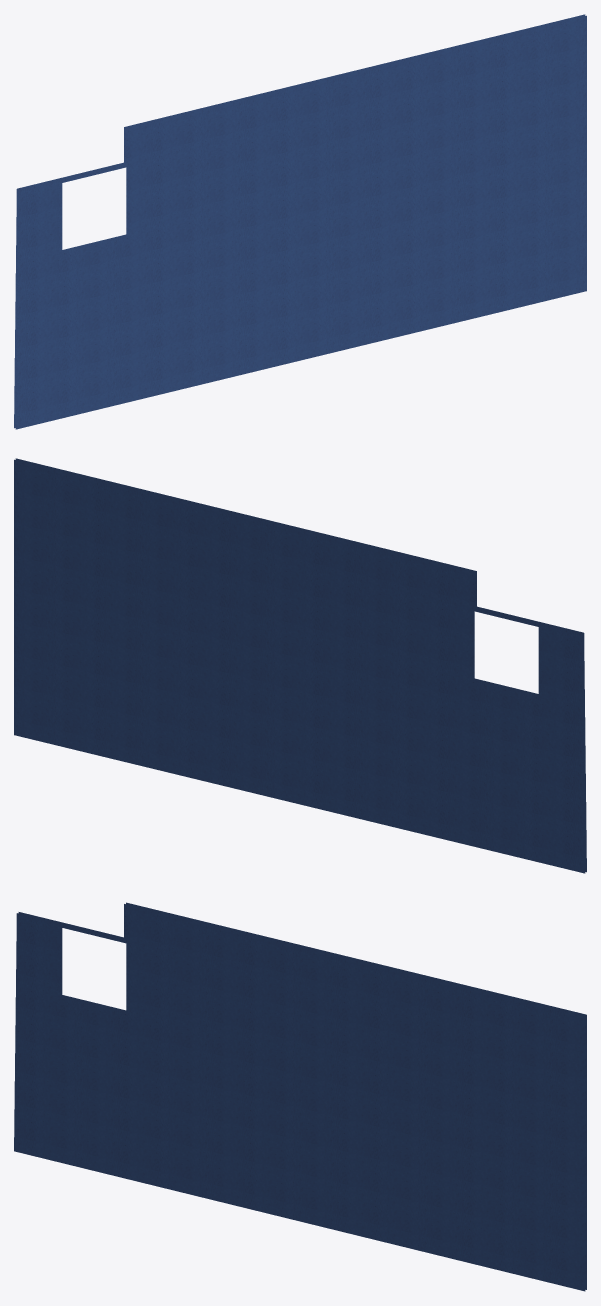
The model's file is floor_1.obj.
3 views of the same model, one above another, from view 1: azimuth 30°, elevation 25°; view 2: azimuth 150°, elevation 25°; view 3: azimuth 330°, elevation 25° (orthographic).
Parts seen in each view (by area): view 1: floor_1; view 2: floor_1; view 3: floor_1.
Boxes of the visible parts, x1,y1,x2,y2 form: floor_1: (14,14,586,429); floor_1: (14,458,586,873); floor_1: (14,902,586,1291).
Bounding box in the file's own units: 18.26 × 8.42 × 0.1.
